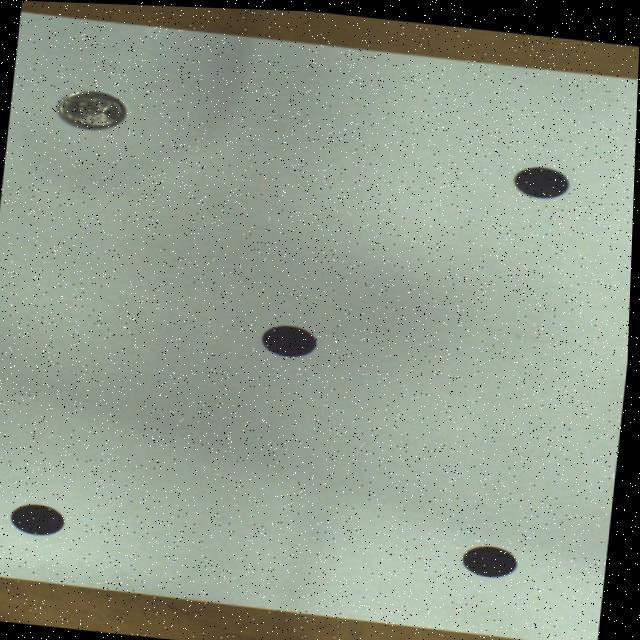head1bath: (58, 89, 125, 128)
space: (515, 161, 570, 193), (466, 541, 521, 572), (264, 322, 317, 354), (15, 502, 67, 534)
